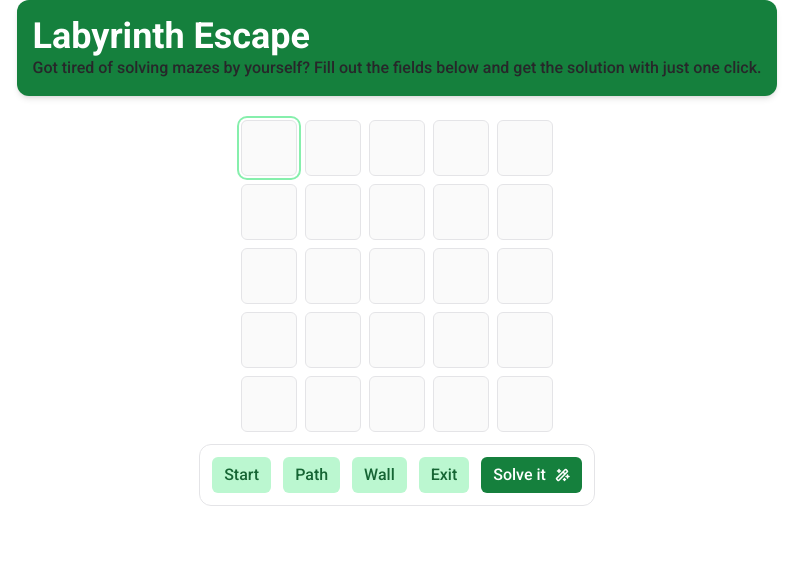
LabyrinthEscape › When a unsolvable Labyrinth is submitted, it should present a WarningMessage
This screenshot has width=795, height=583.
Click the button with test id "start_button" at [242, 475], box left=212, top=457, right=271, bottom=493
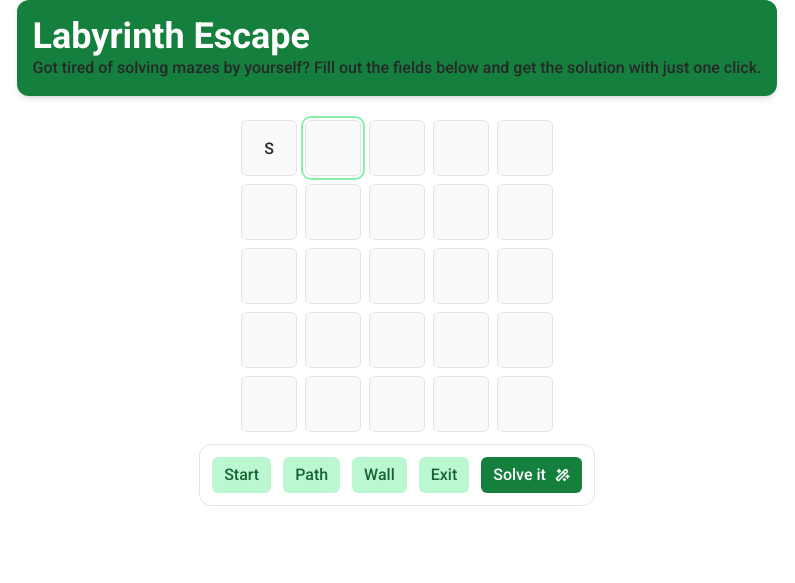
Click the button with test id "submit_button" at [532, 475], box left=481, top=457, right=582, bottom=493
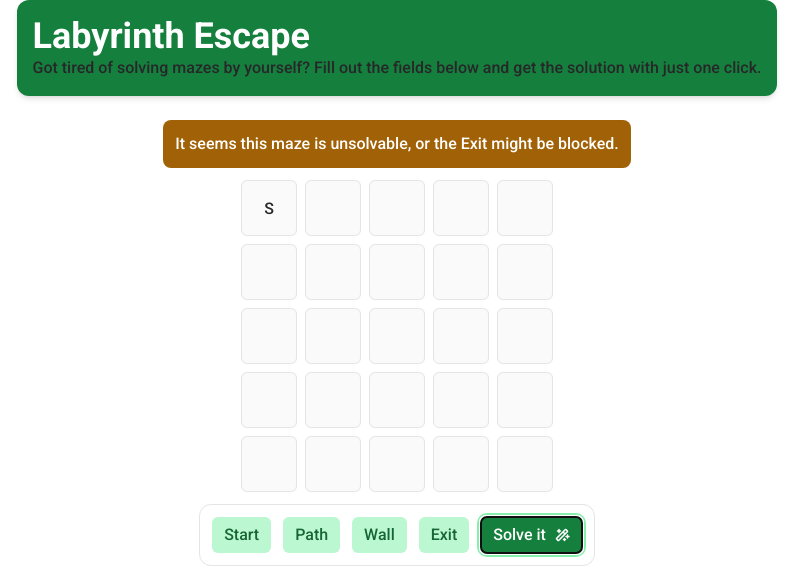
Now the element with test id "warning_message" is shown, box left=163, top=120, right=631, bottom=168
